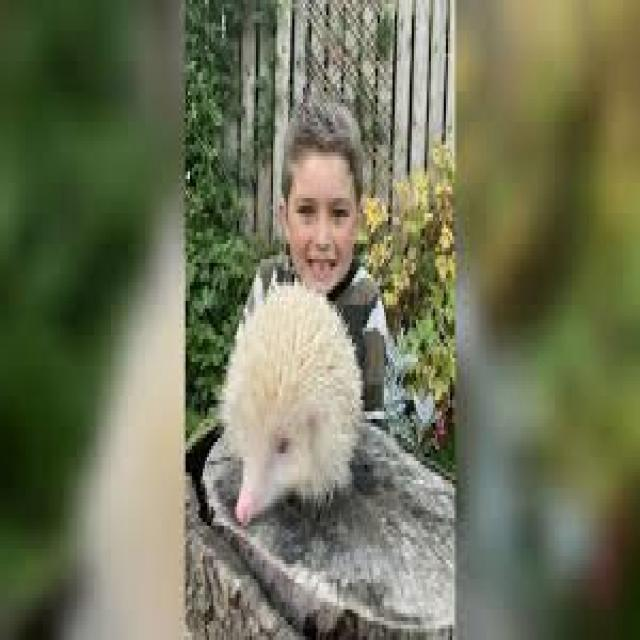hedgehog: (220, 270, 363, 522)
